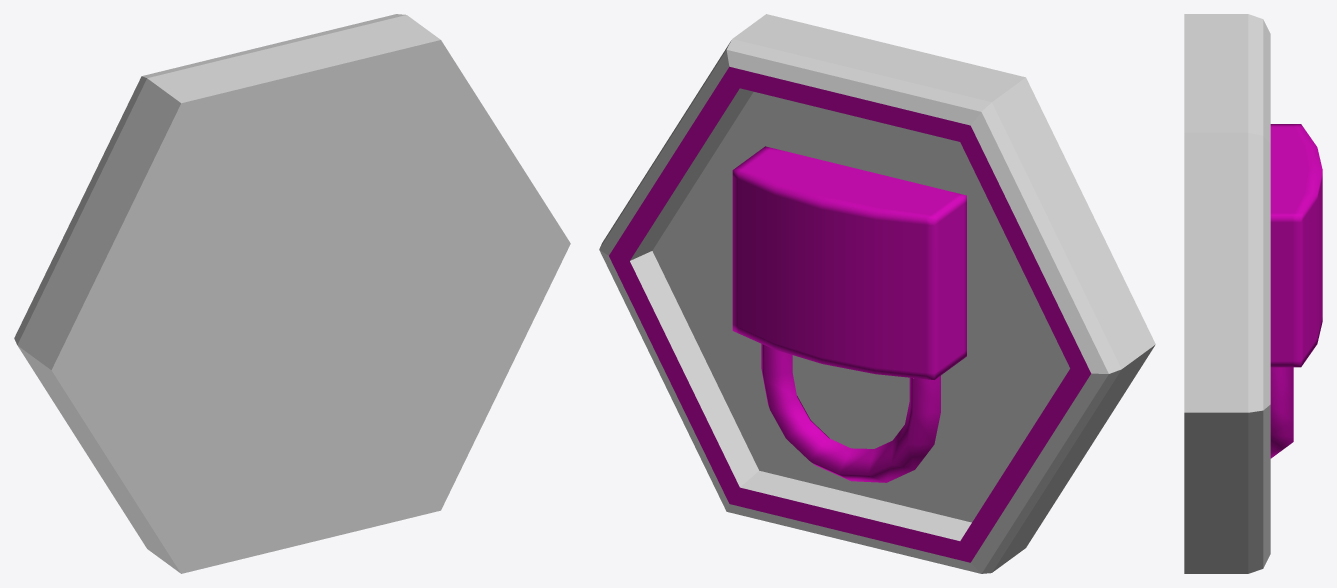
File: hexagon_lock.dae
3 renders of one model, left to right at view 1: azimuth 30°, elevation 25°; view 2: azimuth 150°, elevation 25°; view 3: azimuth 270°, elevation 25°, orthographic. The views are drawn at different scales.
Parts seen in each view (by area): view 1: node; view 2: node; view 3: node.
Part boxes in pixels (x1,y1,x2,y2): node: (14,14,570,573); node: (599,14,1155,573); node: (1184,14,1322,573).
Size of the model in its own units: 2 by 0.493 by 1.73.
